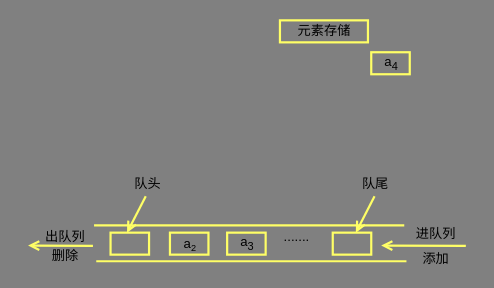
This 494x288 diagram has some shape labels left out. The box of each missing label's shape, as (x1, y1, x2, y2) in pixels:
a 1: (109, 231, 150, 255)
a n: (331, 231, 372, 255)
